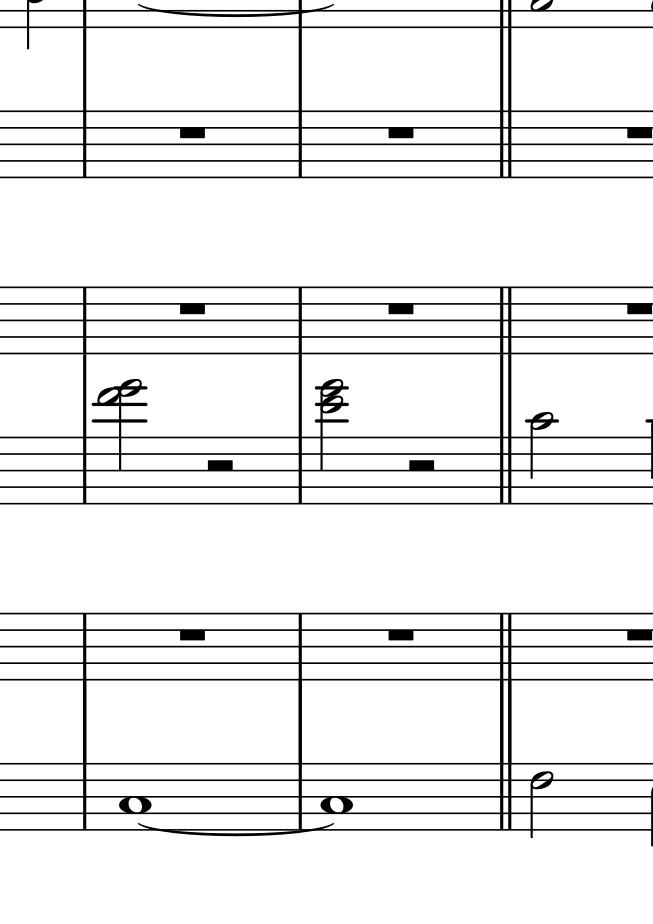1_3: (118, 761, 152, 837), (320, 761, 352, 831)
2_10: (527, 412, 558, 506)
2_12_14: (316, 377, 345, 505)
2_13_14: (96, 377, 150, 508)
2_6: (528, 760, 558, 844)
Double_barline: (492, 108, 519, 179), (493, 760, 520, 830), (493, 436, 519, 503), (492, 613, 518, 680), (492, 286, 517, 353)
Rests1: (381, 123, 420, 144), (175, 624, 212, 646), (172, 300, 217, 318), (172, 125, 211, 143), (384, 626, 419, 643), (383, 299, 418, 315)
Rests2: (200, 456, 240, 477), (401, 457, 439, 477)
Single_barline: (291, 763, 309, 828), (76, 764, 94, 829), (292, 109, 308, 179), (293, 436, 309, 504), (76, 288, 92, 354), (292, 614, 308, 679), (77, 110, 92, 177), (77, 437, 92, 503), (77, 615, 92, 678), (293, 288, 307, 354)
Slur: (134, 821, 334, 838)
